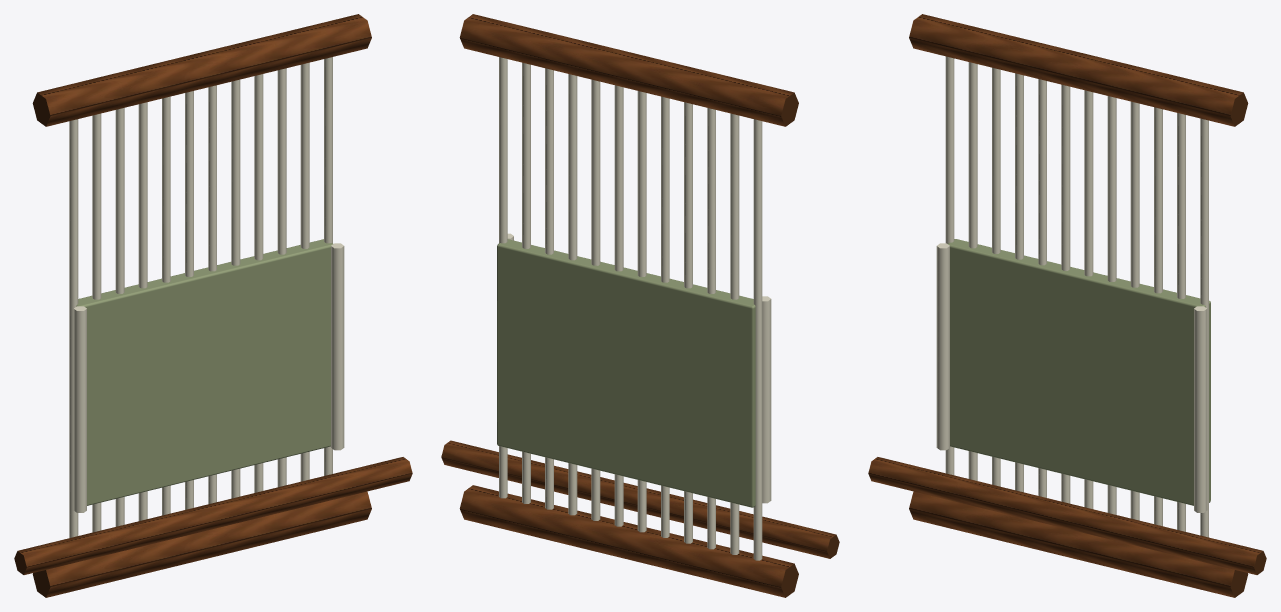
The model's file is primitive-crafting-workshop-backstrap-loom-c3f75e8b__21571.glb.
3 views of the same model, side by side, from view 1: azimuth 30°, elevation 25°; view 2: azimuth 150°, elevation 25°; view 3: azimuth 330°, elevation 25° (orthographic).
Parts seen in each view (by area): view 1: backstrap-loom; view 2: backstrap-loom; view 3: backstrap-loom.
Part boxes in pixels (box(x1,y1,x2,y2)): backstrap-loom: box(14, 14, 412, 597); backstrap-loom: box(441, 14, 839, 597); backstrap-loom: box(868, 14, 1266, 597).
Bounding box in the file's own units: 0.6 × 0.7416 × 0.071.
3 materials, 1 textured.
